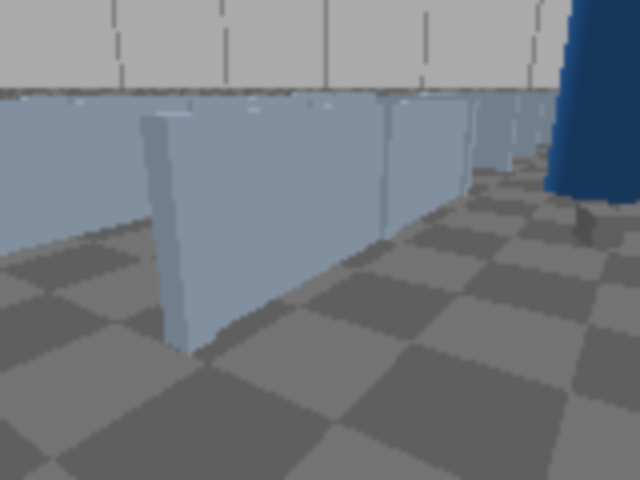obstacle: (573, 205, 628, 250)
